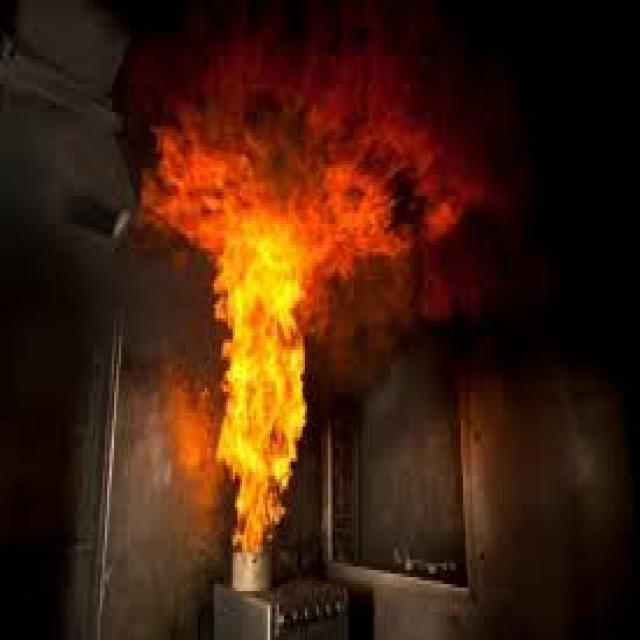Fire: (165, 135, 401, 568), (162, 39, 434, 237)
Smoke: (452, 0, 640, 280), (321, 270, 633, 398)
